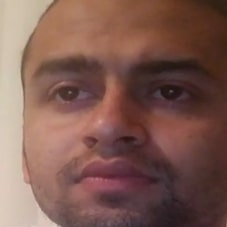drowsy: (30, 49, 227, 206)
